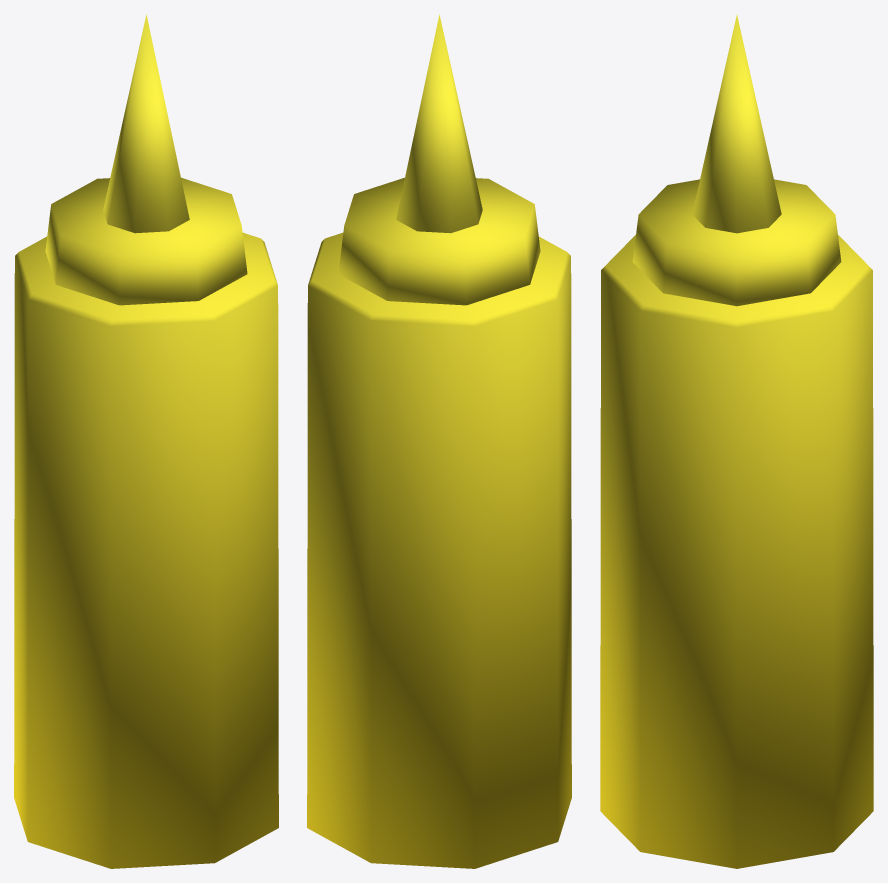
File: BotolMayo.fbx
The picture shows the model from 3 angles, left to right: view 1: azimuth 30°, elevation 25°; view 2: azimuth 150°, elevation 25°; view 3: azimuth 270°, elevation 25°; orthographic projection.
Visible parts, largest first — view 1: BotolMayo_LOD0; view 2: BotolMayo_LOD0; view 3: BotolMayo_LOD0.
Part boxes in pixels (box(x1,y1,x2,y2)): BotolMayo_LOD0: box(14, 14, 278, 868); BotolMayo_LOD0: box(307, 14, 571, 868); BotolMayo_LOD0: box(600, 15, 873, 868).
Size of what is drawn, in the model's own units: 200 by 643 by 200.
